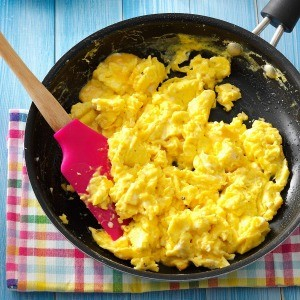egg_brain food: (124, 100, 250, 234)
